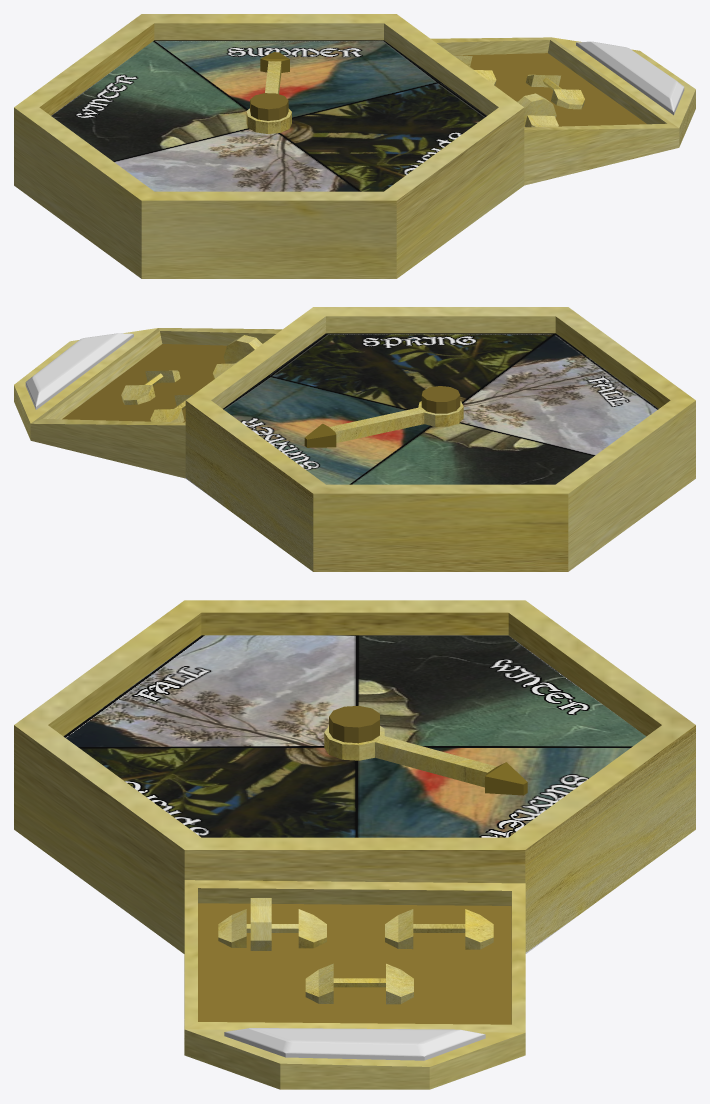
Rendered from Dial.fbx.
The picture shows the model from 3 angles, top to bottom: view 1: azimuth 30°, elevation 25°; view 2: azimuth 150°, elevation 25°; view 3: azimuth 270°, elevation 25°; orthographic projection. The views are drawn at different scales.
Parts seen in each view (by area): view 1: Body, Face, Button, Spinner, Number Spinner Axel.002, Pin, Number Spinnel; view 2: Body, Face, Button, Spinner, Number Spinner Axel.002, Pin, Number Spinnel, Number Spinner Axel.001; view 3: Body, Face, Button, Spinner, Number Spinner Axel.002, Number Spinner Axel.001, Number Spinner Axel, Pin, Number Spinnel.
Boxes of the visible parts, x1,y1,x2,y2 form: Body: [14, 14, 695, 278]; Face: [51, 40, 486, 191]; Button: [576, 41, 684, 115]; Spinner: [246, 52, 291, 133]; Number Spinner Axel.002: [526, 74, 584, 109]; Pin: [250, 93, 288, 120]; Number Spinnel: [517, 93, 556, 125]; Body: [14, 307, 695, 571]; Face: [223, 333, 658, 484]; Button: [25, 333, 133, 409]; Spinner: [304, 401, 463, 447]; Number Spinner Axel.002: [121, 370, 180, 404]; Pin: [421, 386, 460, 413]; Number Spinnel: [223, 335, 262, 363]; Number Spinner Axel.001: [150, 394, 192, 422]; Body: [14, 600, 695, 1089]; Face: [63, 635, 646, 837]; Button: [224, 1028, 485, 1060]; Spinner: [324, 726, 527, 795]; Number Spinner Axel.002: [305, 963, 413, 1004]; Number Spinner Axel.001: [385, 909, 493, 949]; Number Spinner Axel: [218, 909, 326, 948]; Pin: [329, 705, 379, 743]; Number Spinnel: [250, 898, 271, 950].
Size of the model in its own units: 267 by 37.41 by 200.
